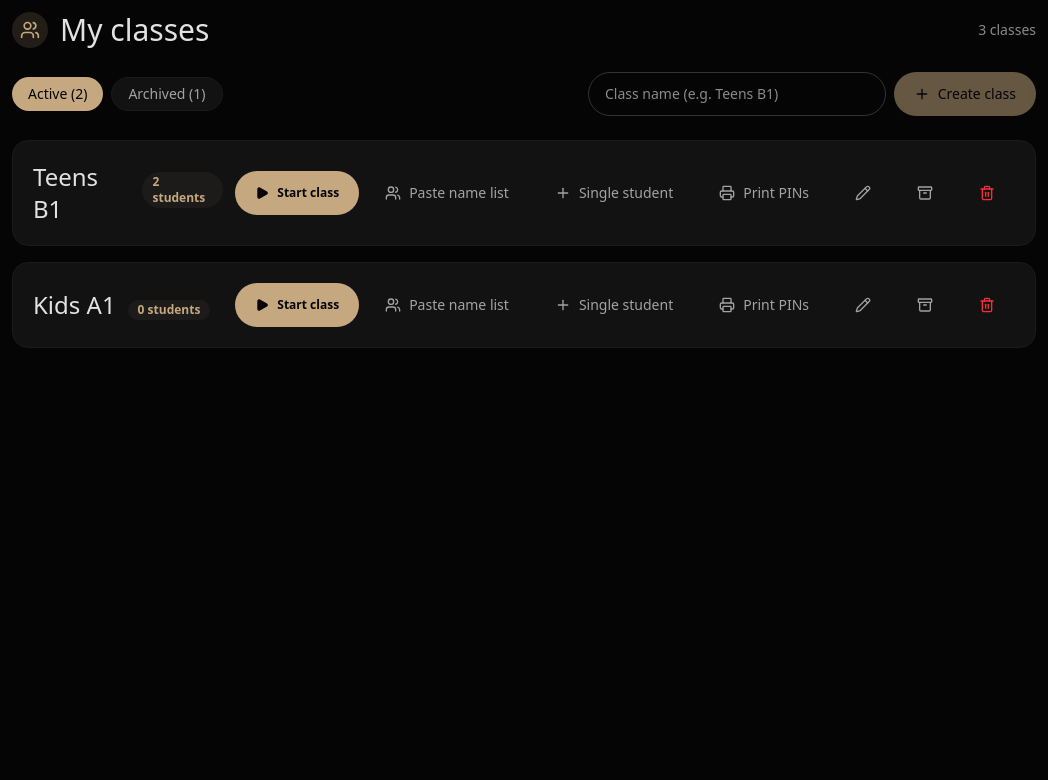
Test: ClassesSection (RF01, RF02, RF06, CA01, CA05) › expands a class and displays enrolled student links (CA04)
Click the button "Teens B1".
click(82, 193)  # box [33, 161, 130, 225]
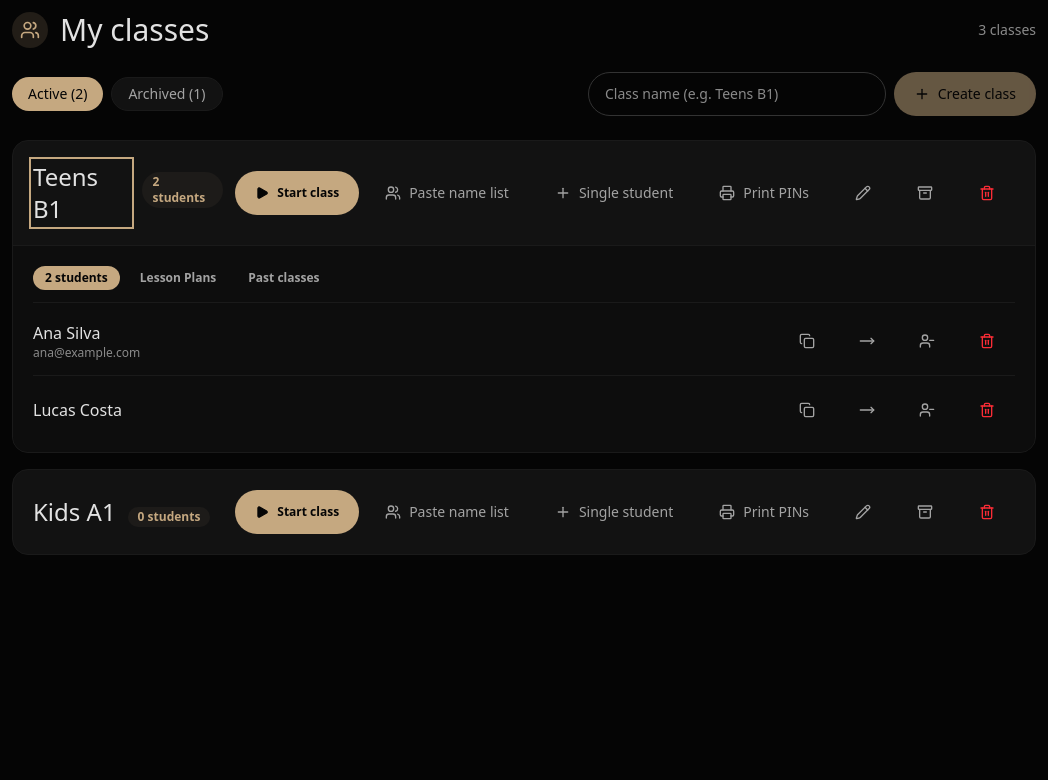
Expected: the link "Ana Silva" is shown, [33, 322, 100, 344]
Expected: the link "Lucas Costa" is shown, [33, 398, 122, 422]
